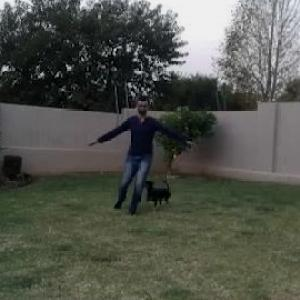land: (100, 101, 201, 220)
